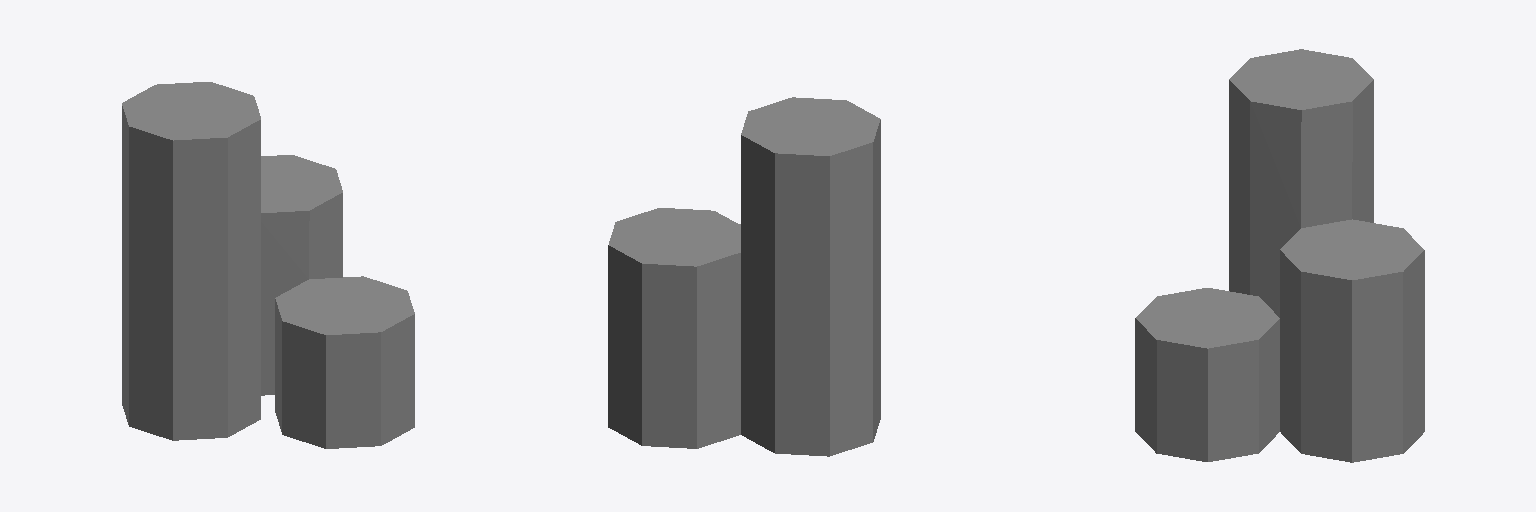
The model's file is money.obj.
The picture shows the model from 3 angles: view 1: azimuth 30°, elevation 25°; view 2: azimuth 150°, elevation 25°; view 3: azimuth 270°, elevation 25°; orthographic projection.
Visible parts, largest first — view 1: money; view 2: money; view 3: money.
Part boxes in pixels (x1,y1,x2,y2): money: (122,82,414,448); money: (608,97,880,456); money: (1135,49,1424,462).
Size of the model in its own units: 0.7499 by 0.9255 by 0.8082.